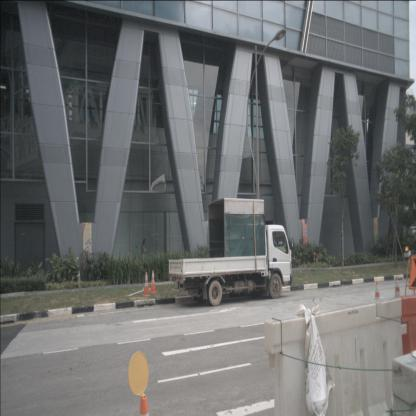barrier: (265, 299, 403, 415)
cone: (150, 270, 158, 294), (144, 272, 151, 297), (394, 277, 402, 298), (374, 280, 381, 301)
